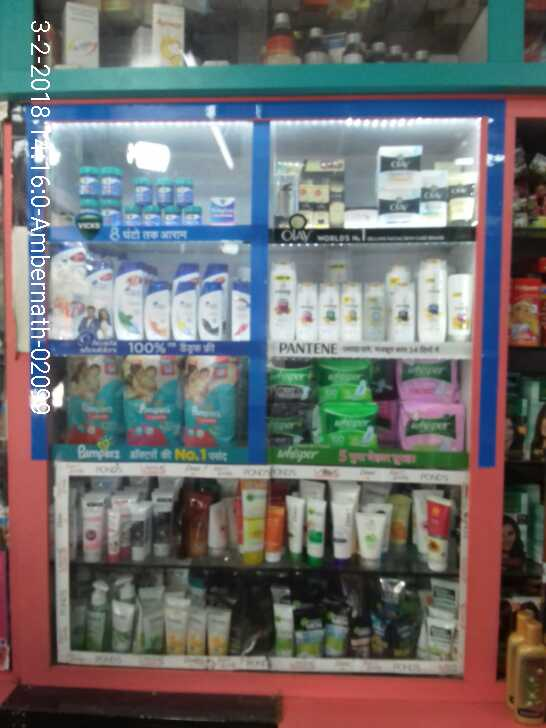vicks: (79, 158, 236, 227)
